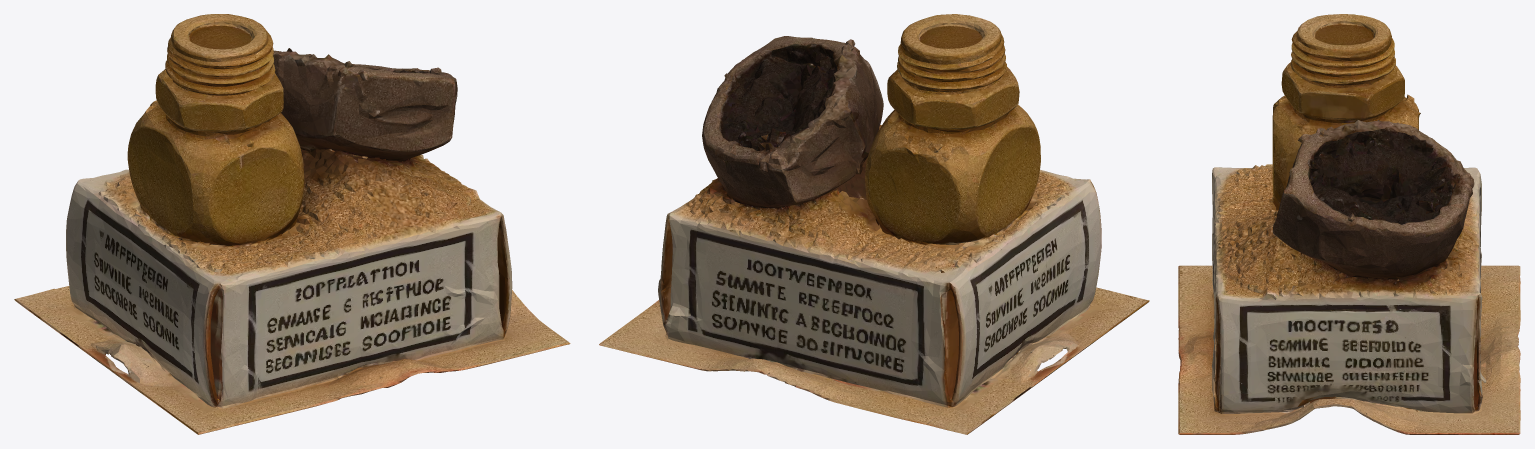
The model's file is chest (43).glb.
The picture shows the model from 3 angles, left to right: view 1: azimuth 30°, elevation 25°; view 2: azimuth 150°, elevation 25°; view 3: azimuth 270°, elevation 25°; orthographic projection. The views are drawn at different scales.
Parts seen in each view (by area): view 1: Hy21_Mesh.obj; view 2: Hy21_Mesh.obj; view 3: Hy21_Mesh.obj.
Boxes of the visible parts, x1=… form: Hy21_Mesh.obj: x1=14, y1=14, x2=570, y2=434; Hy21_Mesh.obj: x1=599, y1=14, x2=1149, y2=434; Hy21_Mesh.obj: x1=1178, y1=14, x2=1520, y2=434.
Bounding box in the file's own units: 1.96 × 1.56 × 1.68.
Materials: 1 (1 with a texture image).
